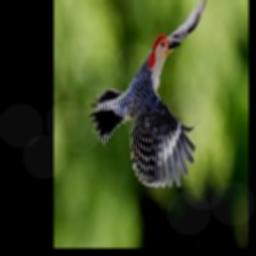Woodpecker: (90, 0, 206, 187)
